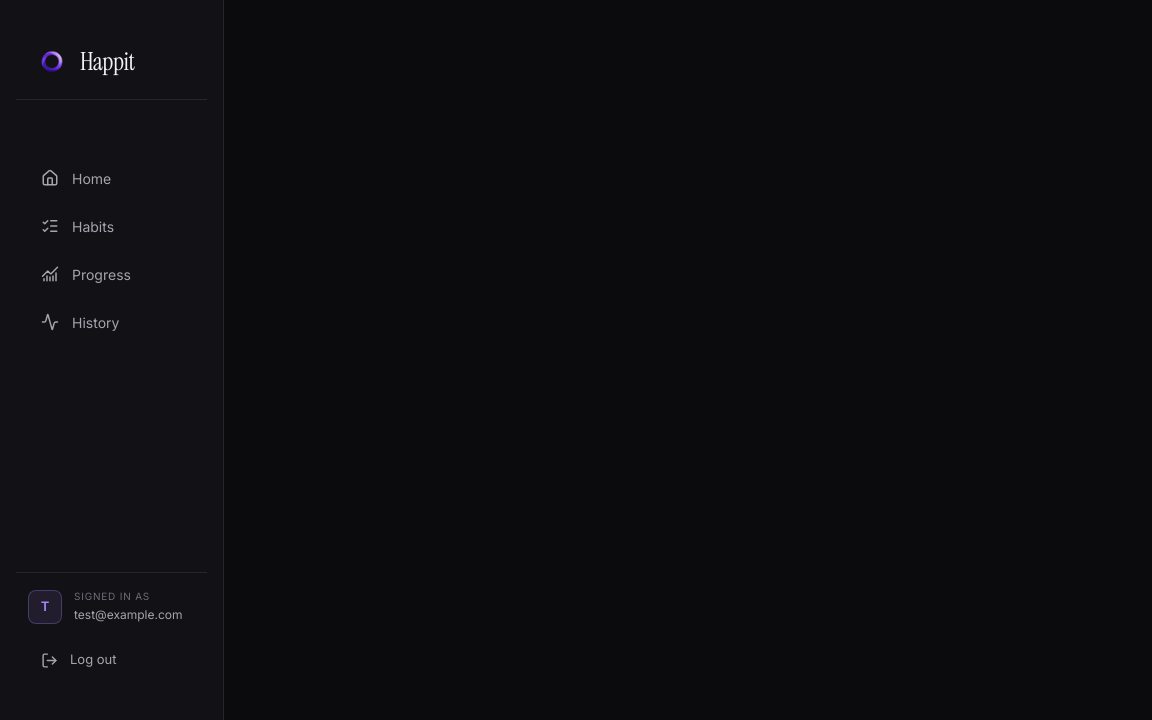
App authentication › switches between my habits and the habit catalog
Click the link "Habits".
click(78, 226)  # box [41,217,114,235]
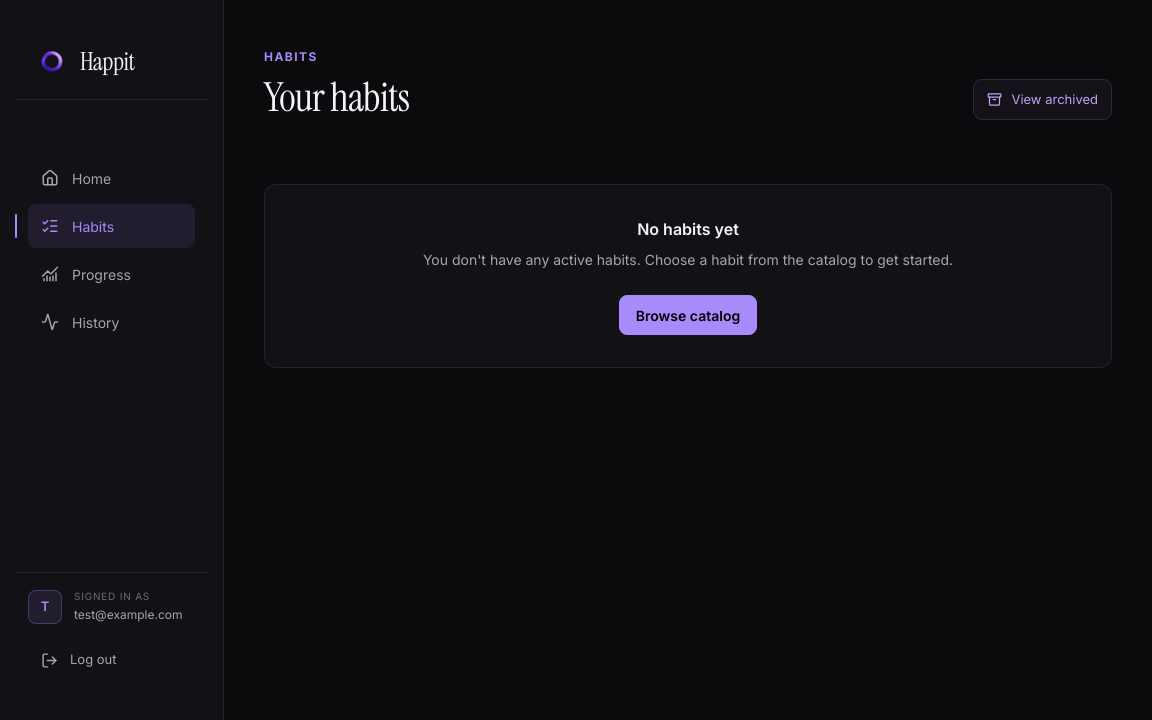
Check: the heading "Your habits" is shown, box [264,74,409,120]
Click the button "Browse catalog".
click(688, 315)  # box [619,295,757,335]
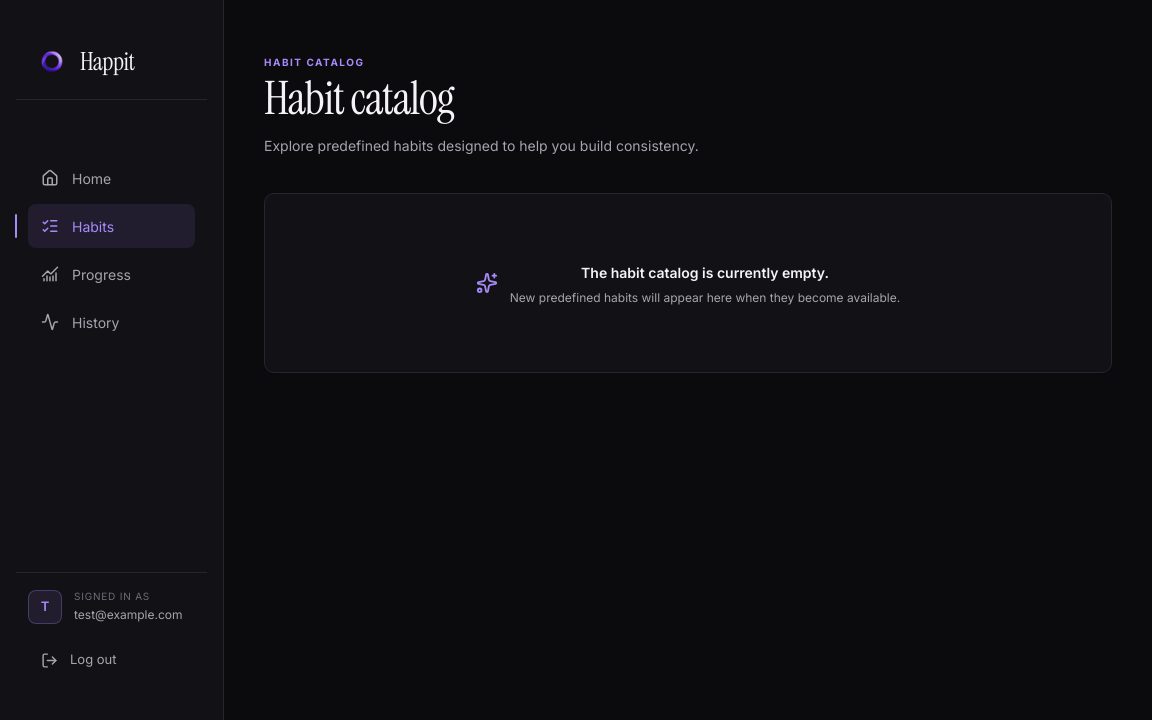
Check: the heading "Habit catalog" is shown, box [264,68,454,128]
Click the link "Habits".
click(112, 226)  # box [28,204,195,248]
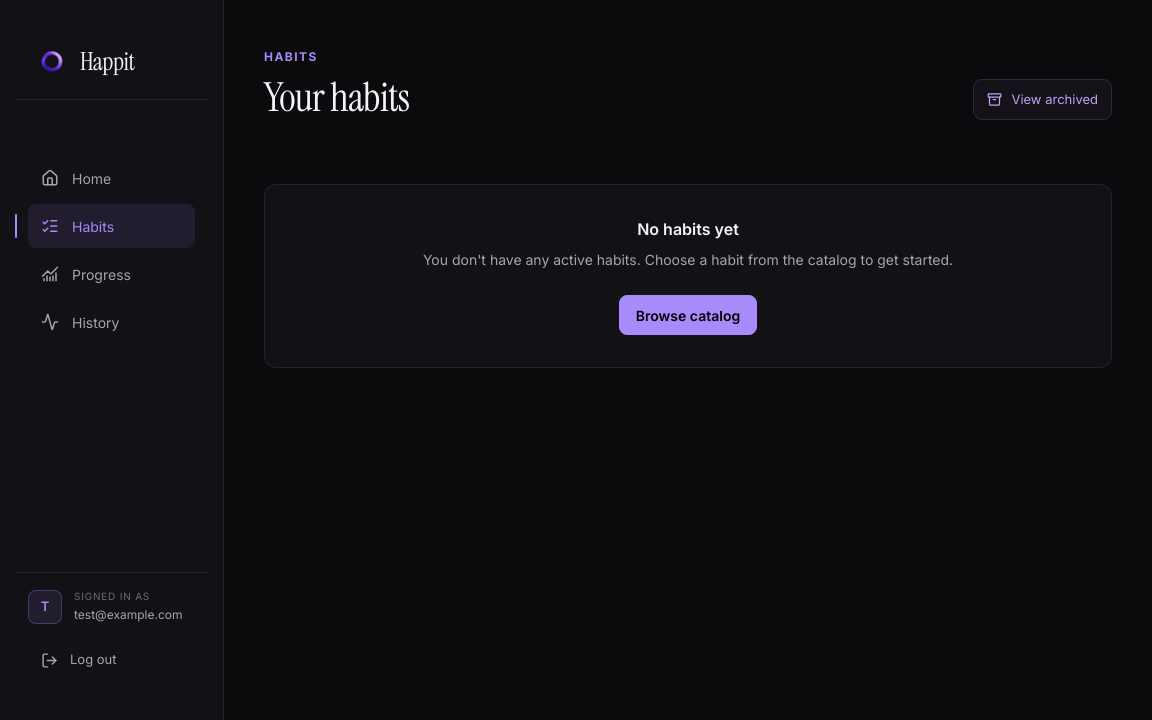
Check: the heading "Your habits" is shown, box [264,74,409,120]
